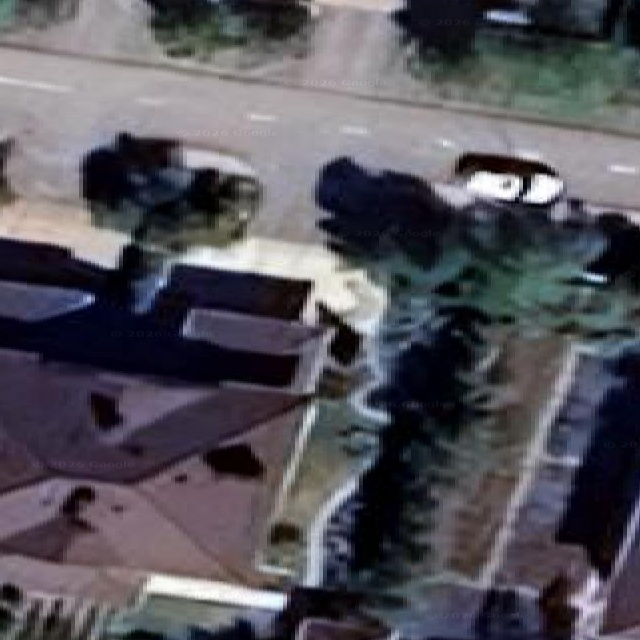car: (81, 132, 260, 243), (315, 156, 455, 255), (316, 156, 447, 236), (180, 144, 260, 220), (452, 152, 564, 206), (0, 129, 13, 199), (0, 129, 13, 167)
